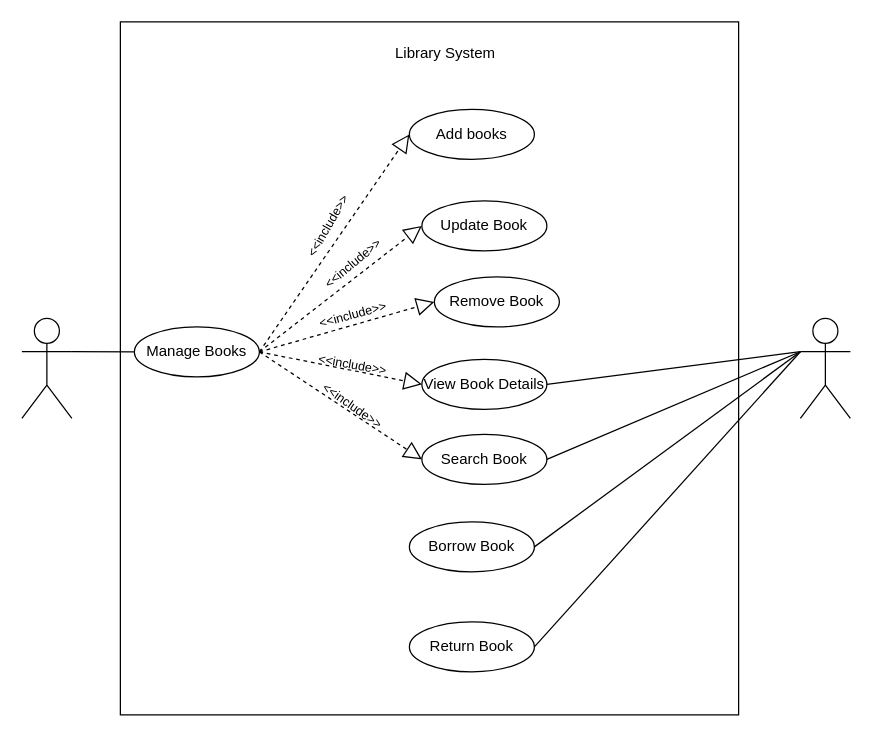
Image size: 879x738. Some labels were removed from this diagram. The centre of each missing label's shape, as x and y in pixels:
"Members" goes at [824,367].
"Staff" goes at [46,367].
